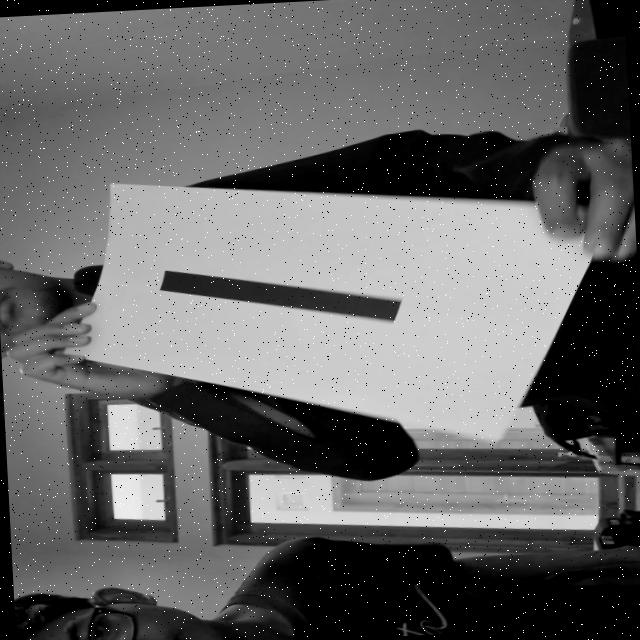i: (138, 236, 448, 346)
